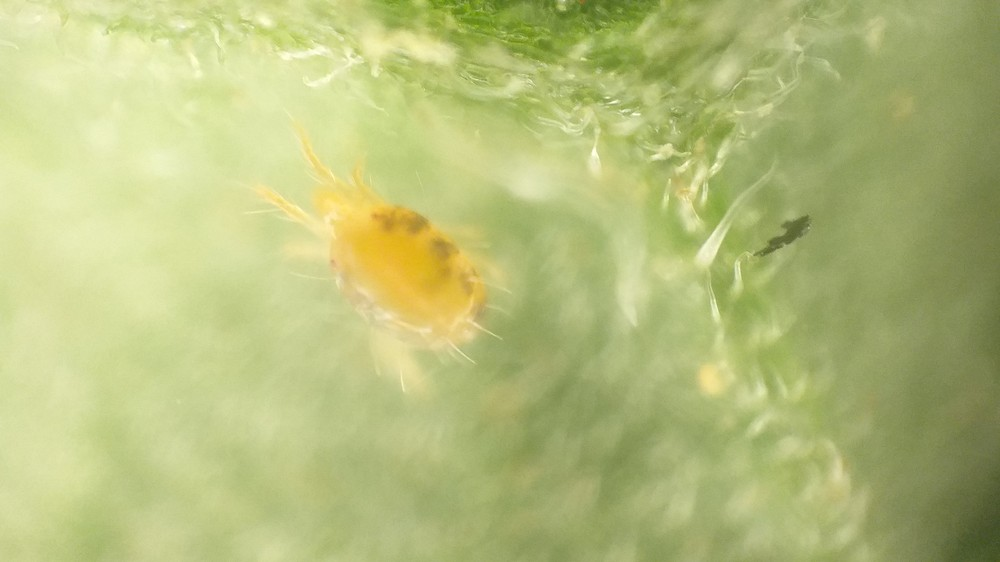Aracnido Rojo: (249, 111, 549, 412)
